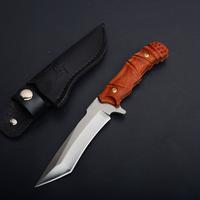knife: (28, 38, 169, 191)
